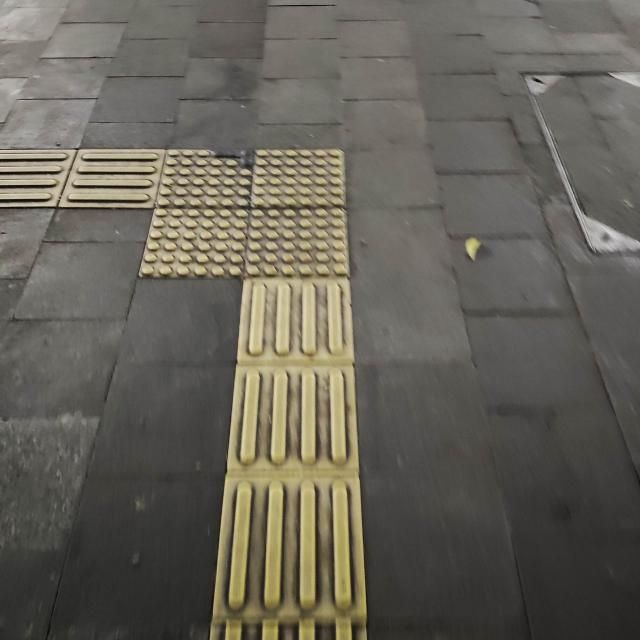kiri: (2, 111, 404, 374)
